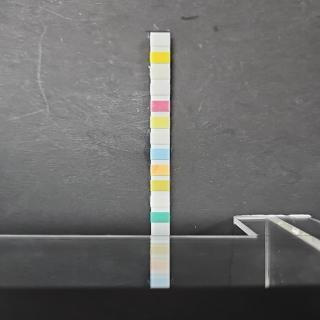mark: (151, 66, 169, 80), (151, 50, 169, 64), (151, 132, 170, 145), (151, 195, 169, 208), (150, 35, 169, 47), (151, 180, 169, 192), (151, 164, 169, 176), (151, 148, 169, 160), (151, 116, 169, 128), (151, 100, 169, 112), (151, 83, 169, 95), (151, 212, 169, 223)
